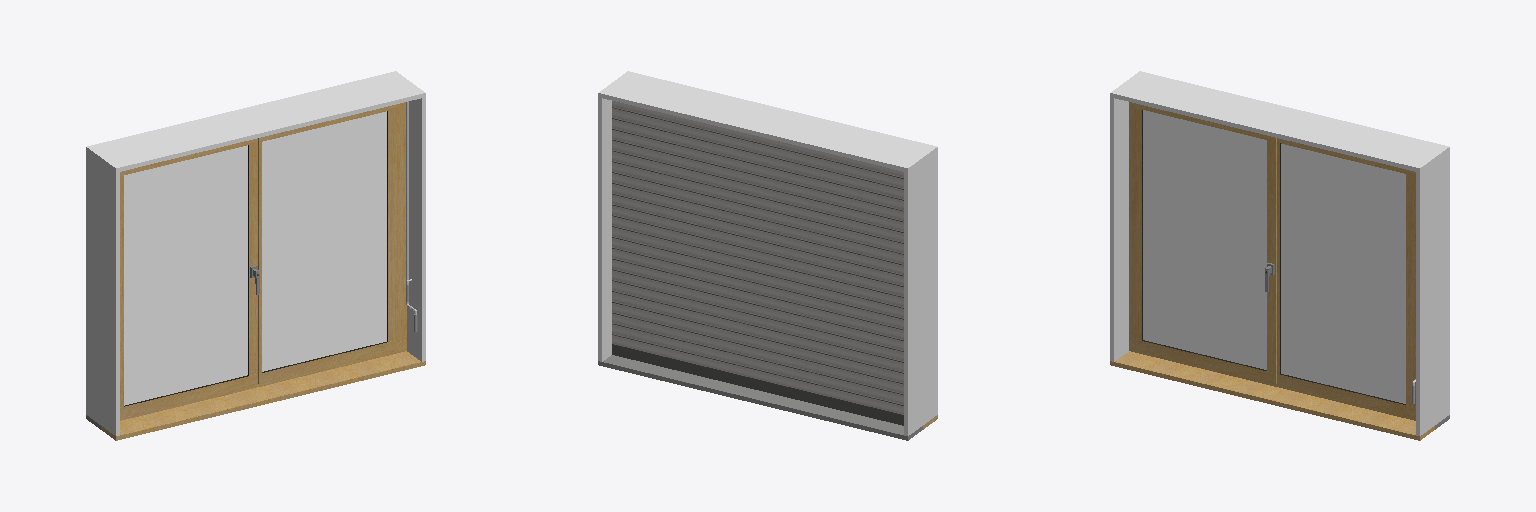
The picture shows the model from 3 angles: view 1: azimuth 30°, elevation 25°; view 2: azimuth 150°, elevation 25°; view 3: azimuth 330°, elevation 25°; orthographic projection.
Parts seen in each view (by area): view 1: sweethome3d_opening_on_hinge_2_Window_Pane_2_wall_1_6_6_117_235, sweethome3d_opening_on_hinge_1_Window_Pane_1_wall_1_6_6_33_172, 6.001, 2.001, 1.001, sweethome3d_opening_on_hinge_1_Outside_Inner_Frame_1_front_57_1, sweethome3d_opening_on_hinge_2_Inside_Inner_Frame_2_top_161_191, 7.001, sweethome3d_opening_on_hinge_3_Roller_Shutter_Crank_Sphere_222_; view 2: sweethome3d_opening_on_rail_1_Roller_Shutter_top_176_275, 2.001, 6.001, 5.001; view 3: sweethome3d_opening_on_hinge_2_Window_Pane_2_wall_1_6_6_117_235, sweethome3d_opening_on_hinge_1_Window_Pane_1_wall_1_6_6_33_172, 6.001, 2.001, sweethome3d_opening_on_hinge_1_Outside_Inner_Frame_1_front_57_1, 1.001, sweethome3d_opening_on_hinge_2_Inside_Inner_Frame_2_top_161_191, 7.001.
Boxes of the visible parts, <box> form: sweethome3d_opening_on_hinge_2_Window_Pane_2_wall_1_6_6_117_235: <box>262,111,386,371</box>; sweethome3d_opening_on_hinge_1_Window_Pane_1_wall_1_6_6_33_172: <box>124,145,247,405</box>; 6.001: <box>101,82,425,435</box>; 2.001: <box>86,71,409,424</box>; 1.001: <box>101,351,425,440</box>; sweethome3d_opening_on_hinge_1_Outside_Inner_Frame_1_front_57_1: <box>120,138,257,417</box>; sweethome3d_opening_on_hinge_2_Inside_Inner_Frame_2_top_161_191: <box>258,104,397,384</box>; 7.001: <box>120,102,406,420</box>; sweethome3d_opening_on_hinge_3_Roller_Shutter_Crank_Sphere_222_: <box>406,101,417,331</box>; sweethome3d_opening_on_rail_1_Roller_Shutter_top_176_275: <box>612,101,903,425</box>; 2.001: <box>598,82,922,435</box>; 6.001: <box>614,71,937,424</box>; 5.001: <box>598,355,922,440</box>; sweethome3d_opening_on_hinge_2_Window_Pane_2_wall_1_6_6_117_235: <box>1281,144,1405,403</box>; sweethome3d_opening_on_hinge_1_Window_Pane_1_wall_1_6_6_33_172: <box>1143,110,1266,369</box>; 6.001: <box>1110,82,1434,435</box>; 2.001: <box>1126,71,1449,424</box>; sweethome3d_opening_on_hinge_1_Outside_Inner_Frame_1_front_57_1: <box>1131,102,1276,383</box>; 1.001: <box>1110,351,1434,440</box>; sweethome3d_opening_on_hinge_2_Inside_Inner_Frame_2_top_161_191: <box>1277,138,1415,417</box>; 7.001: <box>1129,102,1415,420</box>.
Size of the model in its own units: 150 by 126 by 25.
22 materials, 2 textured.